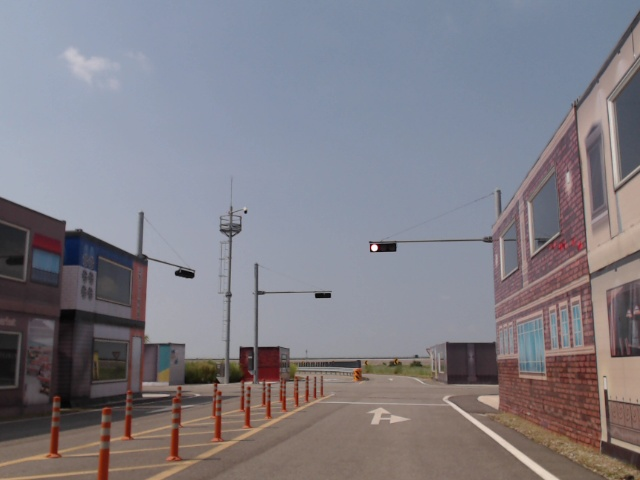red_3: (371, 241, 397, 252)
